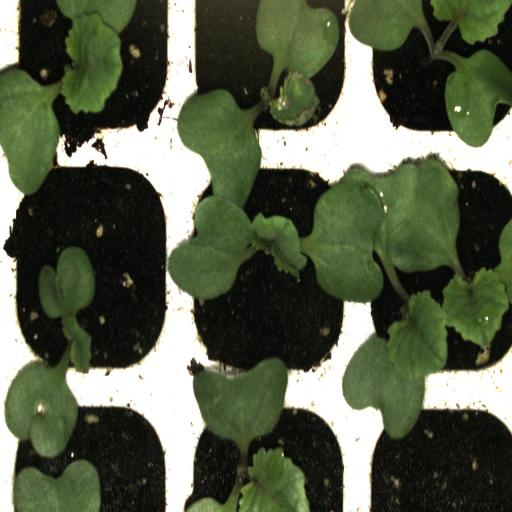Folha: (165, 0, 512, 440), (5, 246, 95, 460), (193, 357, 289, 452), (186, 447, 311, 512), (12, 459, 101, 512)
Germinacao: (0, 150, 180, 398), (182, 147, 358, 393), (360, 146, 512, 396), (182, 0, 362, 141), (6, 0, 182, 144), (361, 0, 512, 135)
